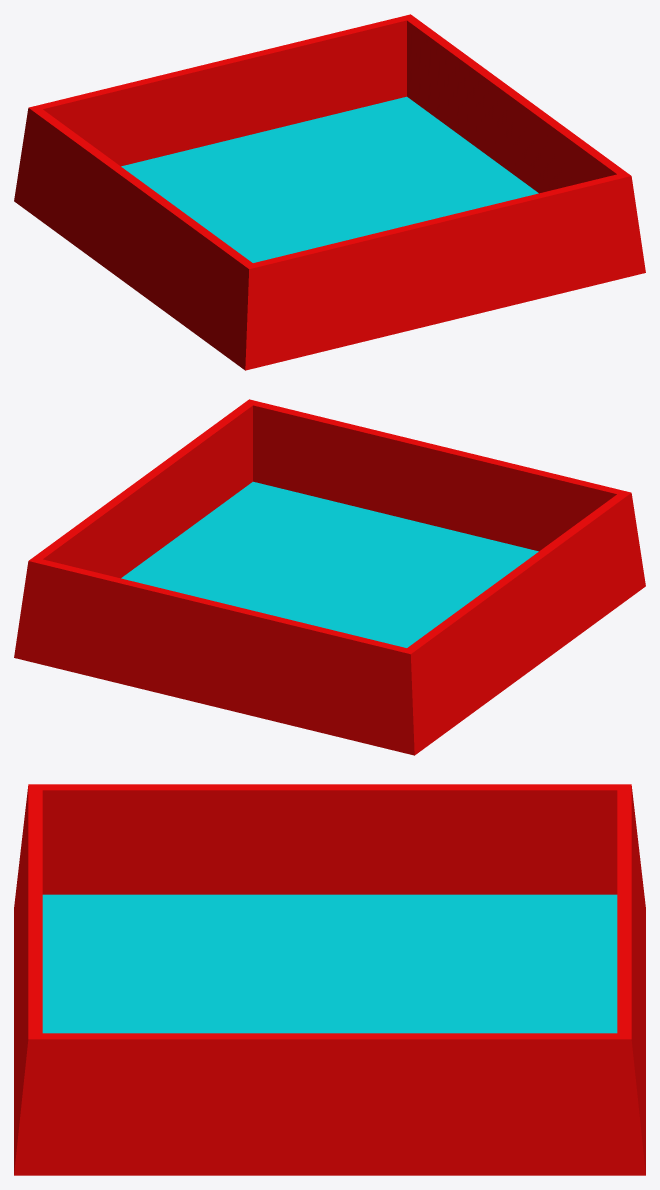
The model's file is Pool1.0.fbx.
3 renders of one model, top to bottom at view 1: azimuth 30°, elevation 25°; view 2: azimuth 150°, elevation 25°; view 3: azimuth 270°, elevation 25°, orthographic. The views are drawn at different scales.
Parts seen in each view (by area): view 1: Cube, Water; view 2: Cube, Water; view 3: Cube, Water.
Boxes of the visible parts, box(x1,y1,x2,y2) form: Cube: box(14, 14, 645, 370); Water: box(121, 96, 538, 262); Cube: box(14, 399, 645, 755); Water: box(121, 481, 538, 647); Cube: box(14, 784, 645, 1175); Water: box(42, 894, 617, 1033).
Bounding box in the file's own units: 220 × 50 × 220.
